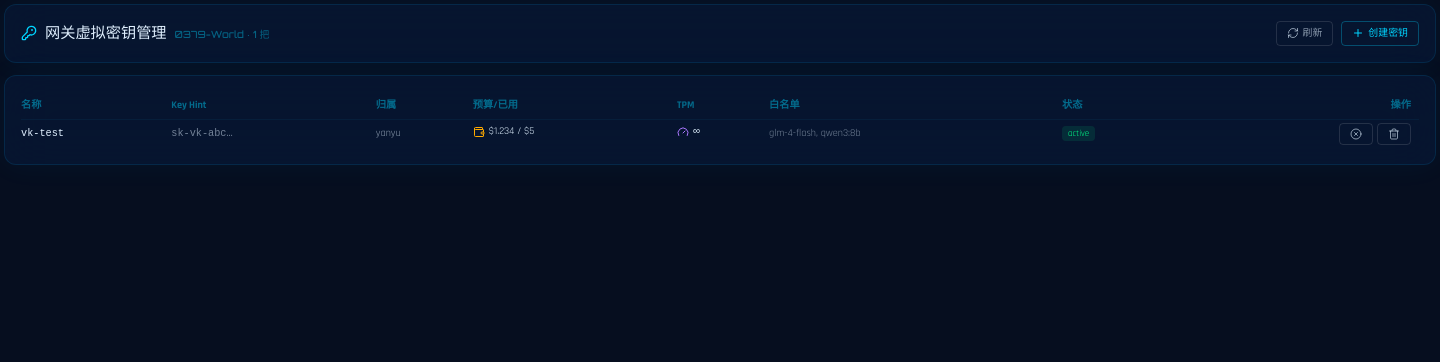
Test: GatewayKeysPanel › 创建成功应 POST 载荷并一次性展示明文
Check: the text "vk-test" is shown, box [21,120,171,148]
Click the button "创建密钥": [1380, 33] box [1341,21,1419,46]
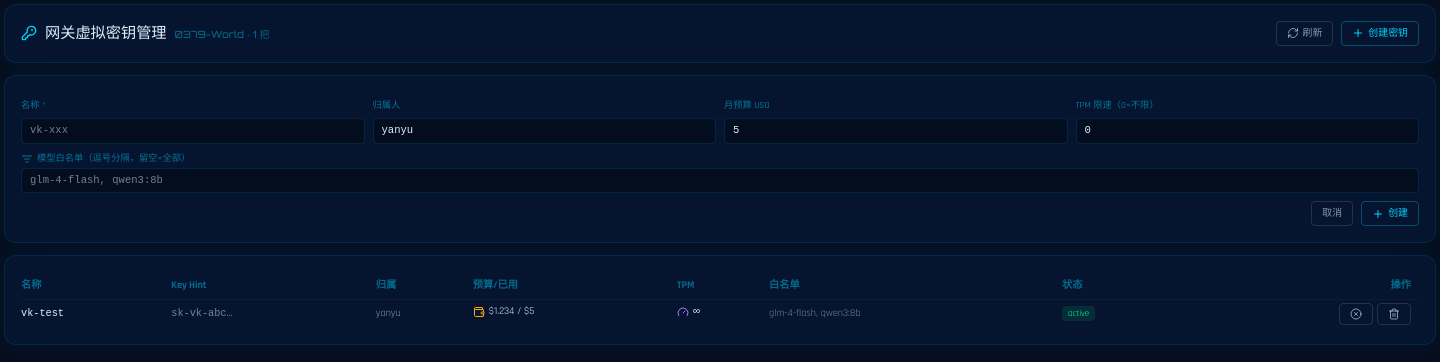
In the field with placeholder "vk-xxx": [193, 131] box [21,118,364,144], type "vk-new"
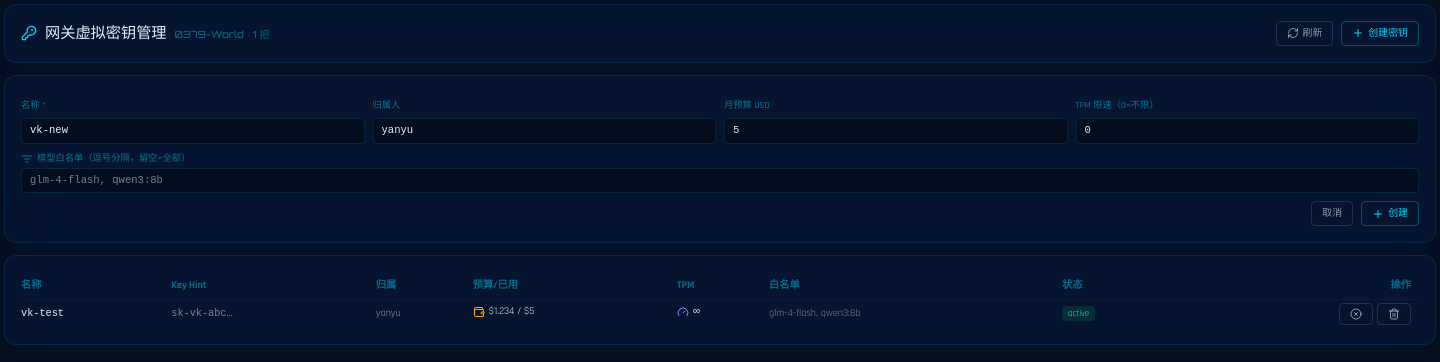
Click the button "创建": [1390, 214] box [1361,201,1419,226]
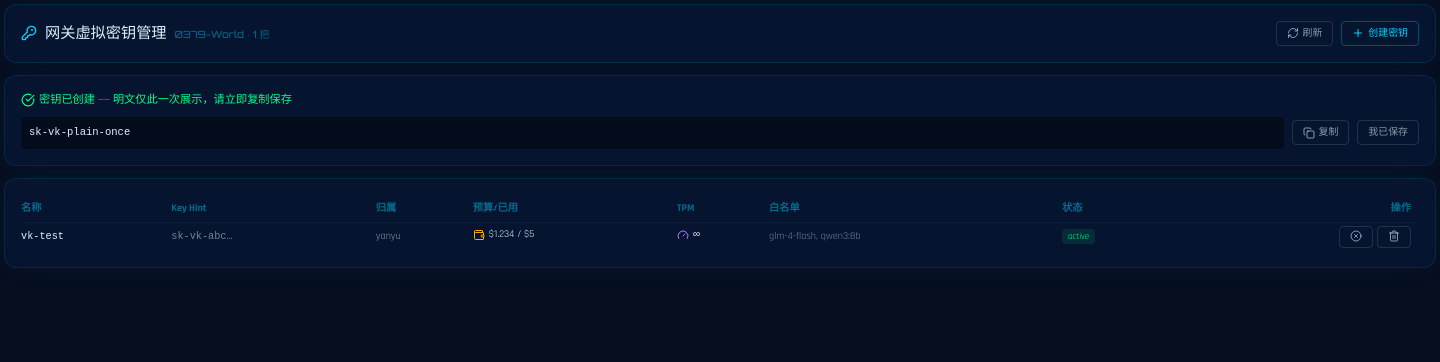
Check: the text "sk-vk-plain-once" is shown, box [21,117,1284,148]
Check: the text "密钥已创建 —— 明文仅此一次展示，请立即复制保存" is shown, box [21,93,292,107]
复制 → 我已保存 → 面板收起
Click the button "复制": [1320, 133] box [1292,120,1349,145]
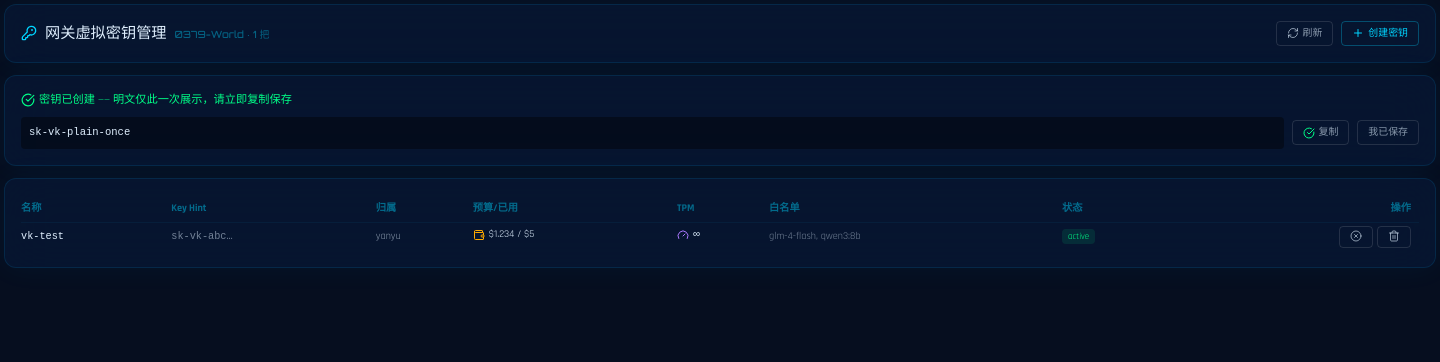
Click the button "我已保存": [1388, 133] box [1357,120,1419,145]
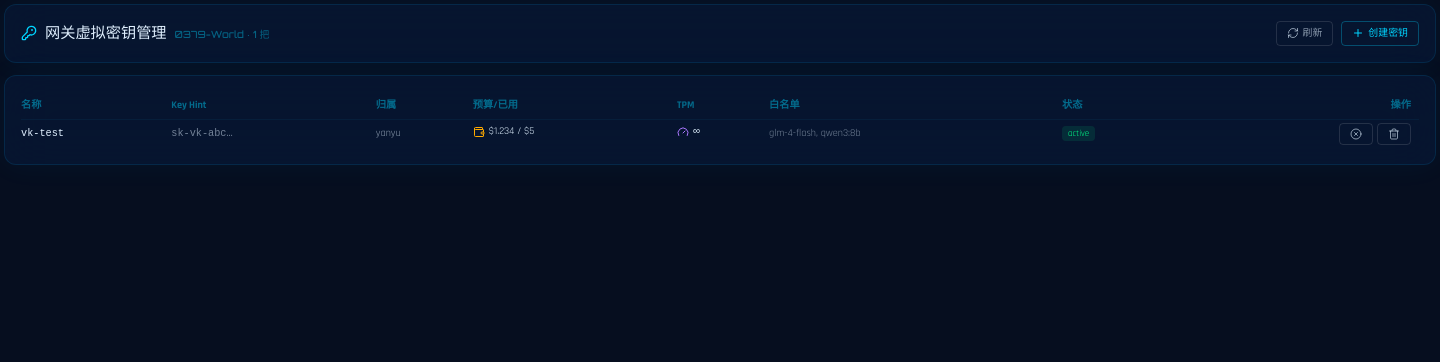
Check: the text "sk-vk-plain-once" is gone
